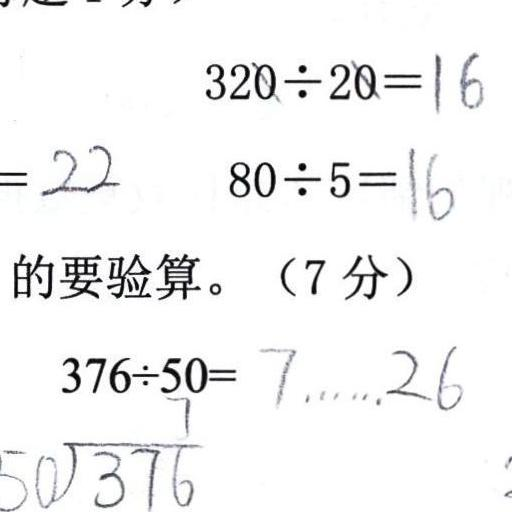ans: (253, 335, 464, 412), (39, 137, 119, 196), (400, 142, 455, 222), (424, 45, 484, 113)
